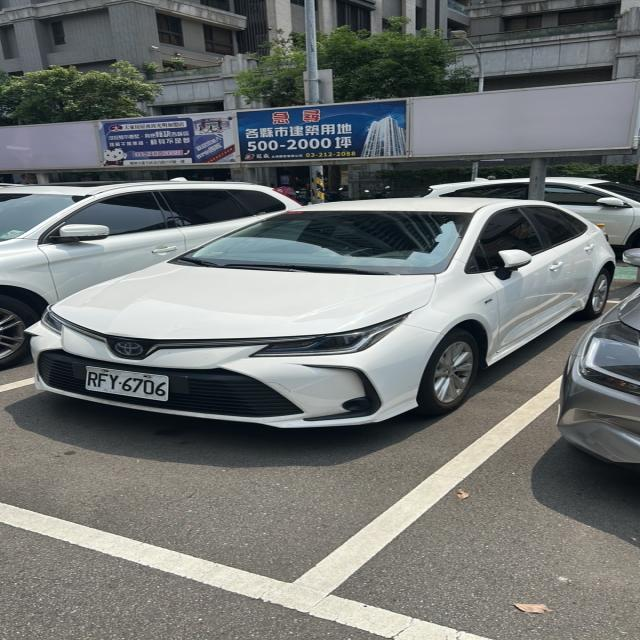license plate: (86, 366, 167, 401)
wheel: (417, 328, 478, 415)
